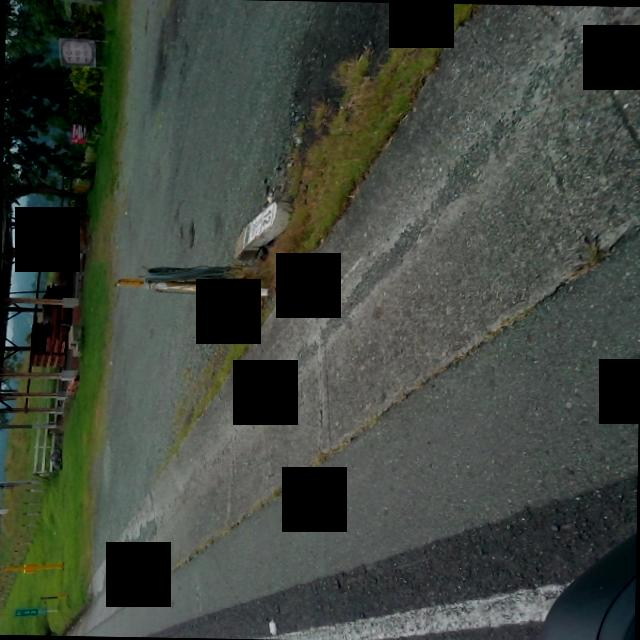DITCH: (26, 0, 640, 640), (63, 0, 640, 640), (73, 0, 640, 640)
